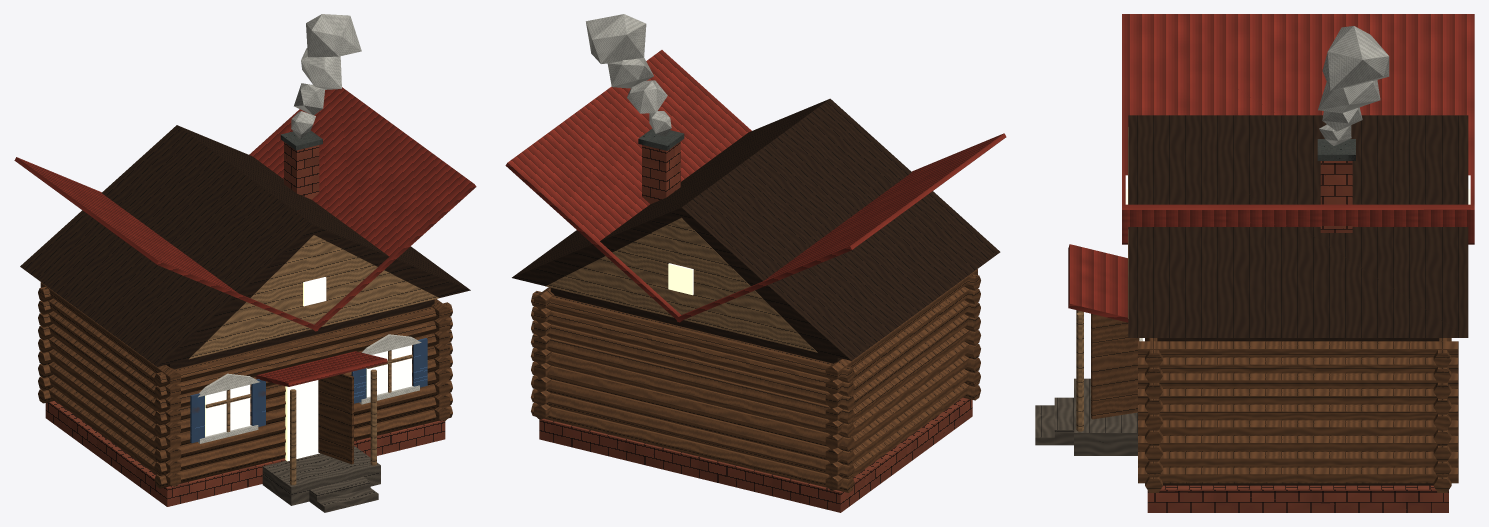
Rendered from childhood_house.glb.
The picture shows the model from 3 angles, left to right: view 1: azimuth 30°, elevation 25°; view 2: azimuth 150°, elevation 25°; view 3: azimuth 270°, elevation 25°; orthographic projection. The views are drawn at different scales.
Visible parts, largest first — view 1: childhood_house; view 2: childhood_house; view 3: childhood_house.
Part boxes in pixels (<box>): childhood_house: <box>14,14,476,512</box>; childhood_house: <box>505,14,1006,512</box>; childhood_house: <box>1035,14,1474,512</box>.
Size of what is drawn, in the model's own units: 7.13 by 7.97 by 6.85.
11 materials, 10 textured.
